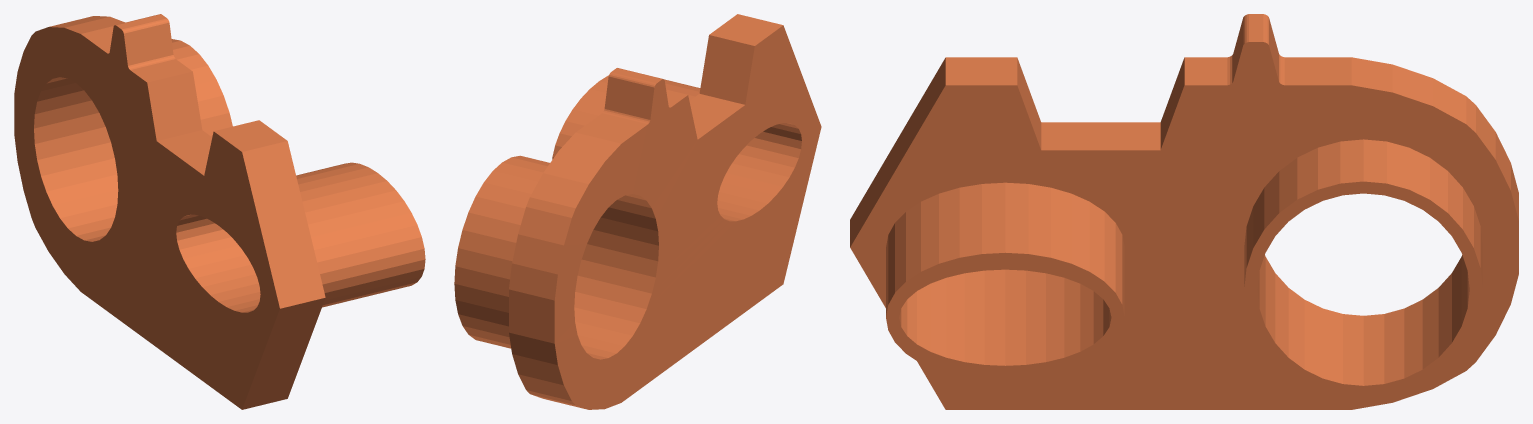
The model's file is manip_end.dae.
3 renders of one model, left to right at view 1: azimuth 30°, elevation 25°; view 2: azimuth 150°, elevation 25°; view 3: azimuth 270°, elevation 25°, orthographic. The views are drawn at different scales.
Parts seen in each view (by area): view 1: Cube; view 2: Cube; view 3: Cube.
Part boxes in pixels (box(x1,y1,x2,y2)): Cube: box(14, 14, 425, 409); Cube: box(454, 14, 821, 409); Cube: box(850, 14, 1518, 409).
Bounding box in the file's own units: 0.07 × 0.2016 × 0.1224.
